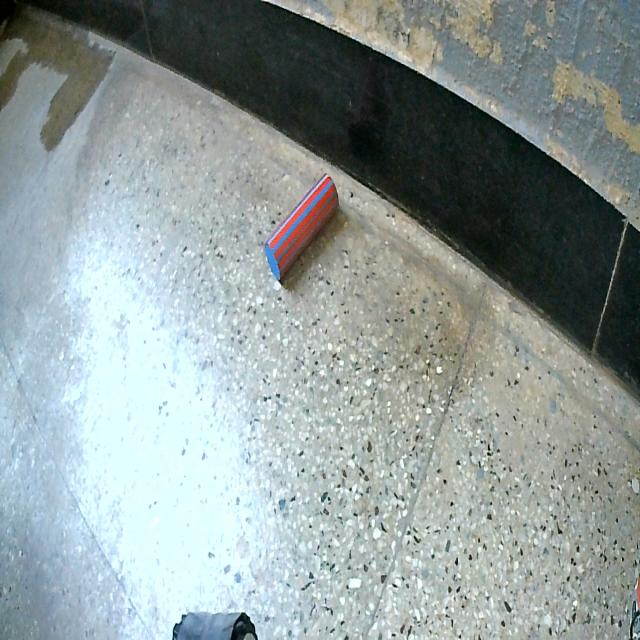cylinder: (253, 163, 352, 287)
